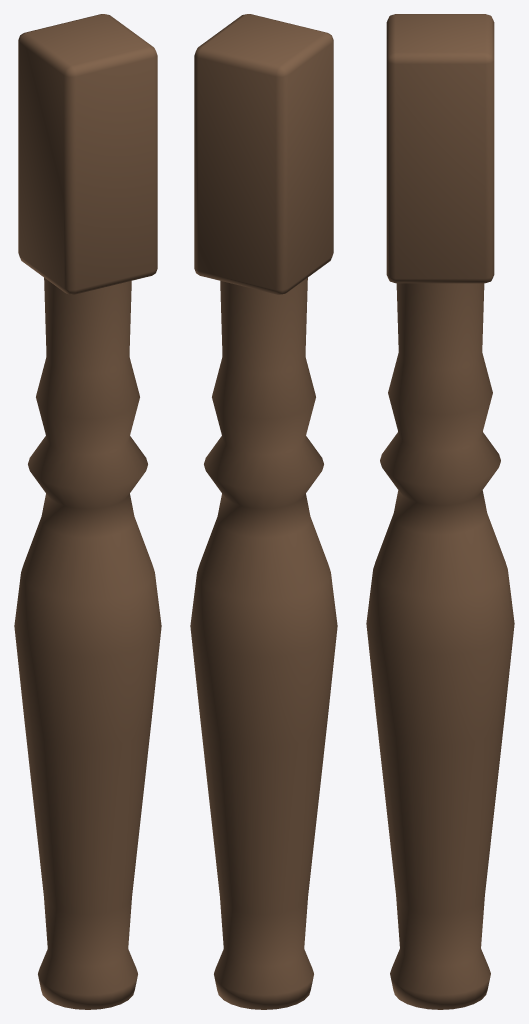
File: dining_leg.glb
The picture shows the model from 3 angles, left to right: view 1: azimuth 30°, elevation 25°; view 2: azimuth 150°, elevation 25°; view 3: azimuth 270°, elevation 25°; orthographic projection.
Parts seen in each view (by area): view 1: dining_leg; view 2: dining_leg; view 3: dining_leg.
Boxes of the visible parts, box(x1,y1,x2,y2) form: dining_leg: box(14, 14, 161, 1009); dining_leg: box(190, 14, 337, 1009); dining_leg: box(366, 14, 514, 1009).
Size of the model in its own units: 0.099 by 0.705 by 0.099.
